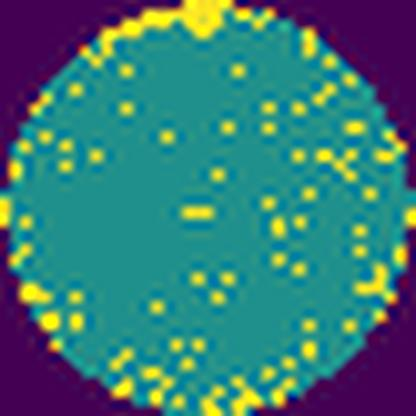Edge-Loc: (78, 0, 241, 74)
